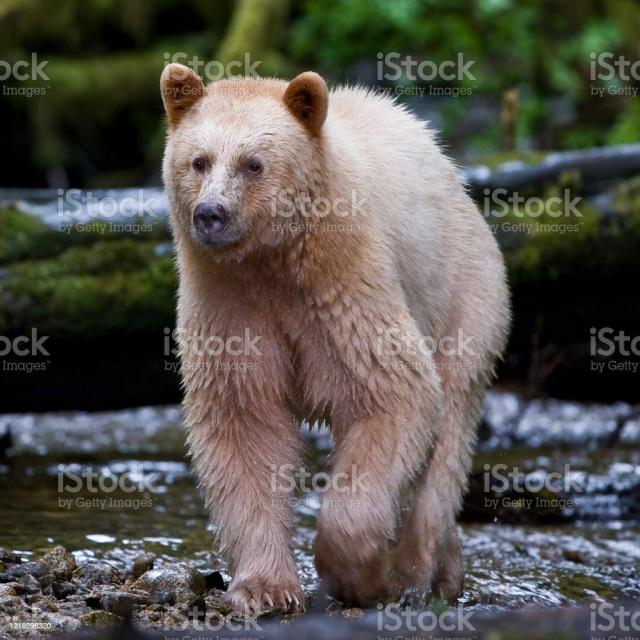Bear: (158, 63, 513, 623)
